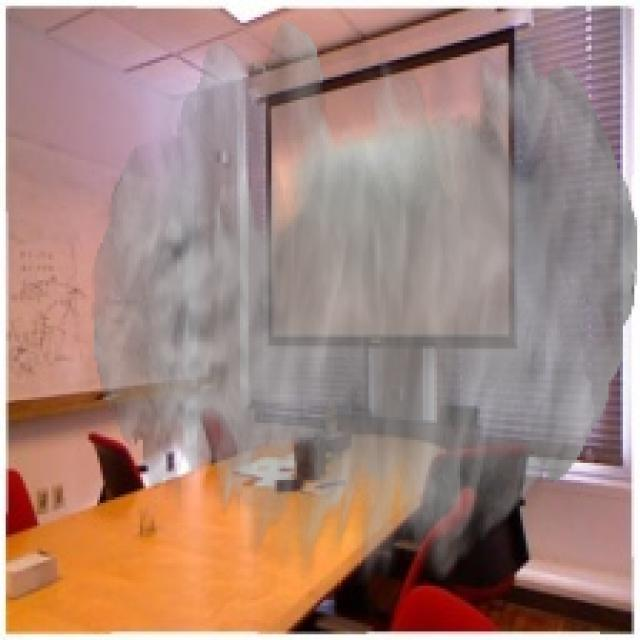Smoke: (92, 20, 638, 586)
